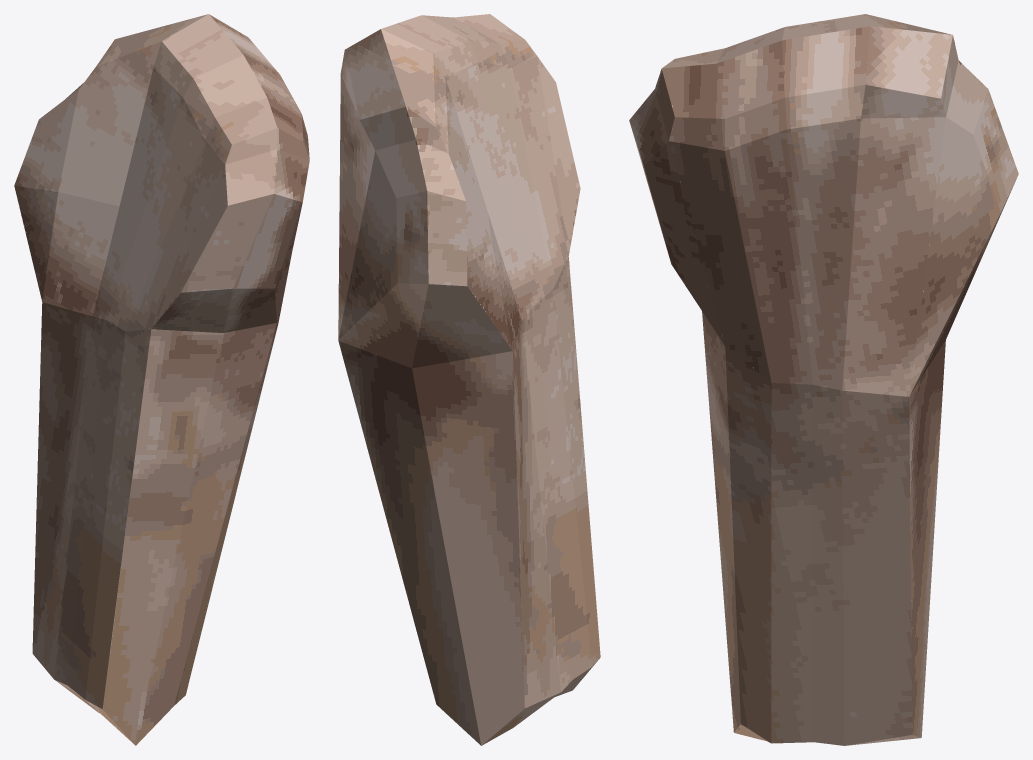
File: hand palm.glb
3 views of the same model, side by side, from view 1: azimuth 30°, elevation 25°; view 2: azimuth 150°, elevation 25°; view 3: azimuth 270°, elevation 25° (orthographic). The views are drawn at different scales.
Parts seen in each view (by area): view 1: palm; view 2: palm; view 3: palm.
Part boxes in pixels (x1=…): palm: x1=14, y1=14, x2=309, y2=745; palm: x1=338, y1=14, x2=600, y2=745; palm: x1=629, y1=14, x2=1018, y2=745.
Size of the model in its own units: 0.1633 by 0.4883 by 0.219.
Materials: 1 (1 with a texture image).
